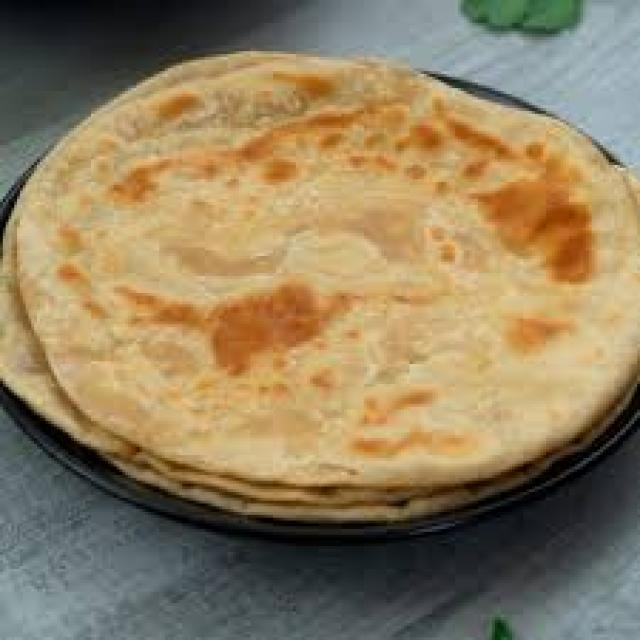ROTI: (2, 59, 637, 494)
